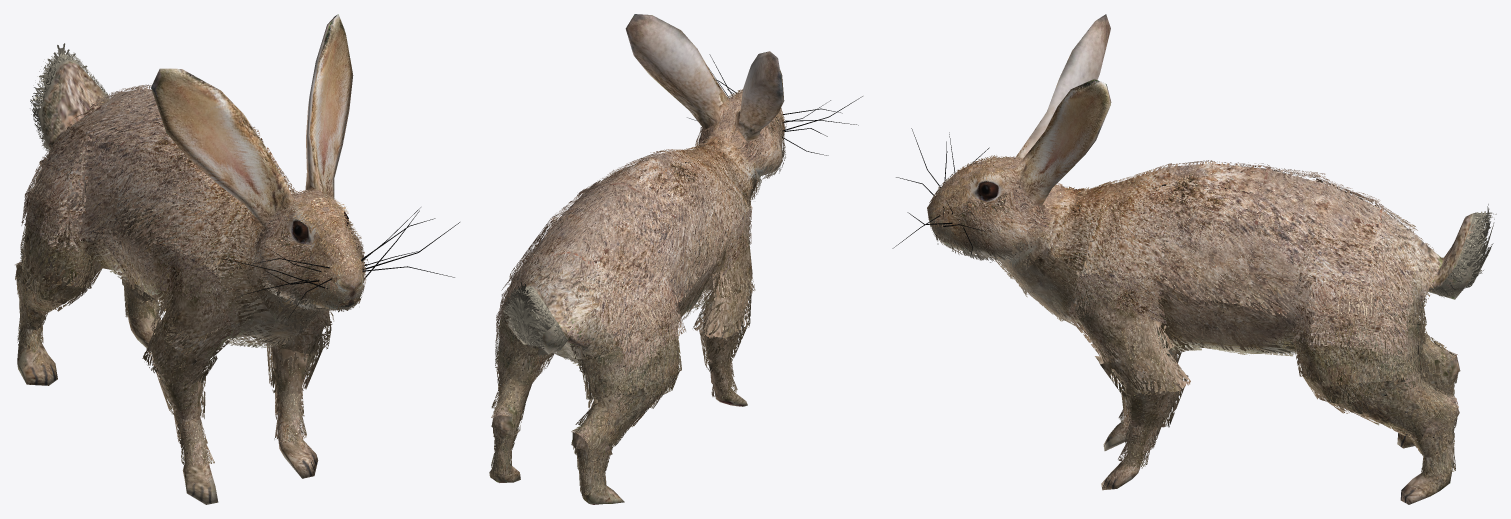
Rendered from rabbit20004.obj.
3 views of the same model, side by side, from view 1: azimuth 30°, elevation 25°; view 2: azimuth 150°, elevation 25°; view 3: azimuth 270°, elevation 25° (orthographic). The views are drawn at different scales.
Visible parts, largest first — view 1: Rabbit, Fur; view 2: Rabbit, Fur; view 3: Fur, Rabbit.
Part boxes in pixels (x1,y1,x2,y2): Rabbit: (16,14,459,504); Fur: (15,43,368,466); Rabbit: (489,14,862,504); Fur: (491,89,786,496); Fur: (929,155,1496,476); Rabbit: (892,14,1481,504).
Size of the model in its own units: 7.7 by 15.45 by 20.07.
